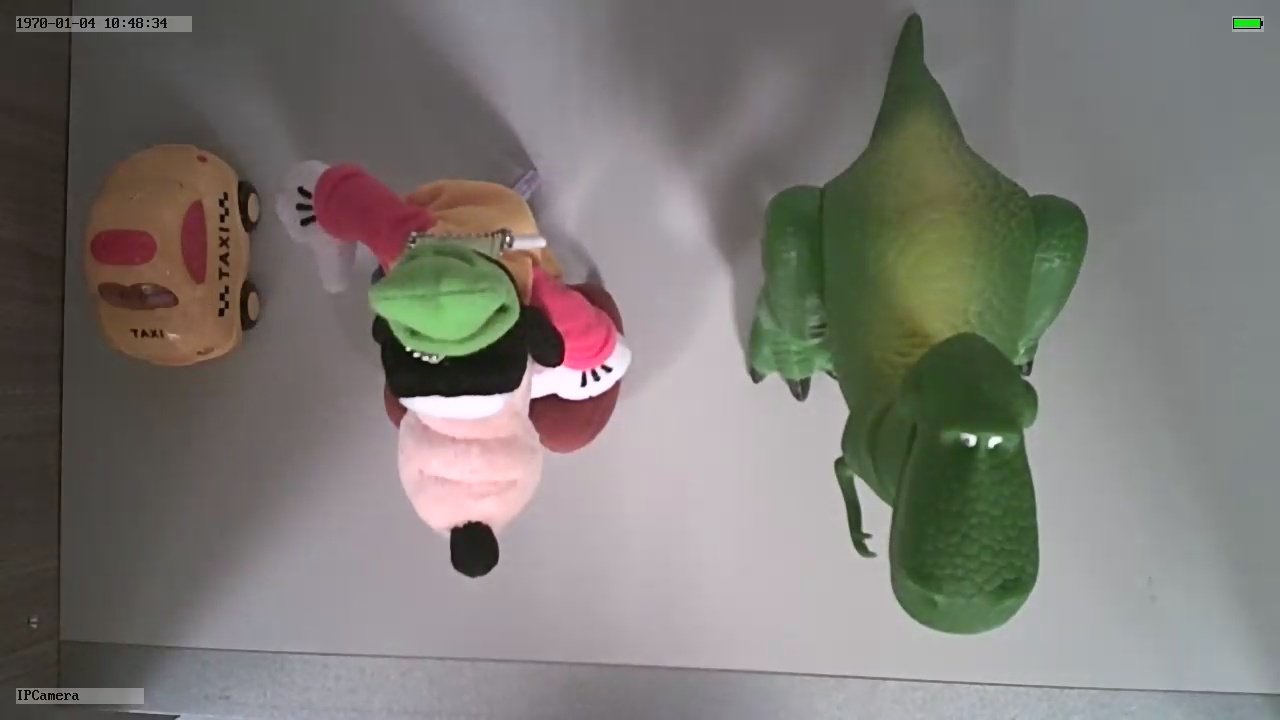car: (82, 139, 266, 371)
goofy: (275, 157, 631, 582)
rex: (748, 105, 1089, 639)
